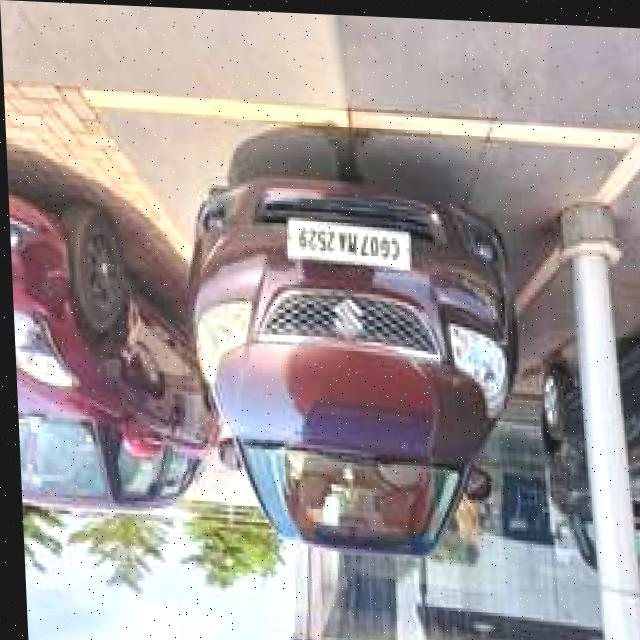plate: (283, 211, 408, 268)
